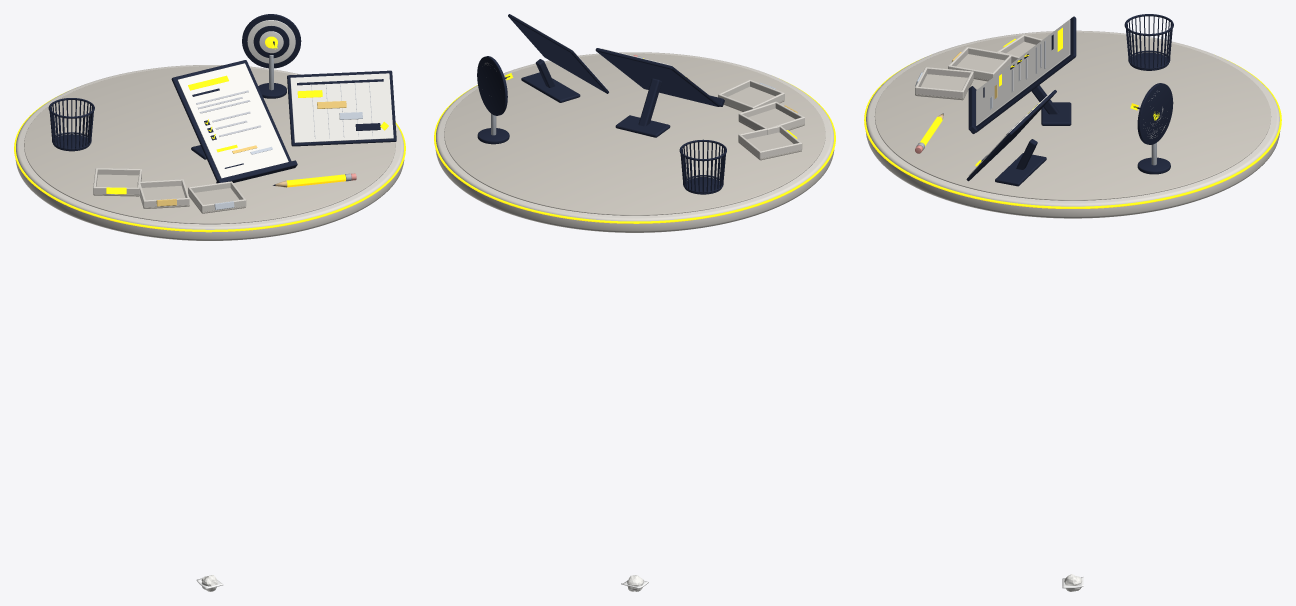
Rendered from spark-studio.glb.
3 views of the same model, side by side, from view 1: azimuth 30°, elevation 25°; view 2: azimuth 150°, elevation 25°; view 3: azimuth 270°, elevation 25° (orthographic). The views are drawn at different scales.
Parts seen in each view (by area): view 1: Plinth top, Plinth, Brief page, Plan sheet, Spark inlay, Brief, Brief board, Plan panel, Target ring 0, Target ring 1, Scope_Must_base, Scope_Should_base (+3 smaller); view 2: Plinth top, Plinth, Brief board, Plan panel, Spark inlay, Target ring 0, Plan foot, Brief foot, Scope_Must_base, Scope_Should_base, Scope_Later_base, Brief leg; view 3: Plinth top, Plinth, Brief page, Spark inlay, Target ring 0, Brief board, Plan foot, Scope_Later_base, Plan panel, Brief, Scope_Should_base, Brief foot.
Part boxes in pixels (x1,y1,x2,y2): Plinth top: [24, 66, 395, 224]; Plinth: [15, 65, 404, 240]; Brief page: [177, 63, 288, 178]; Plan sheet: [290, 73, 393, 142]; Spark inlay: [14, 92, 405, 232]; Brief: [188, 75, 272, 168]; Brief board: [171, 60, 291, 180]; Plan panel: [287, 70, 396, 146]; Target ring 0: [242, 14, 301, 68]; Target ring 1: [247, 20, 295, 63]; Scope_Must_base: [93, 174, 141, 196]; Scope_Should_base: [139, 186, 189, 208]; Plinth top: [444, 53, 825, 215]; Plinth: [435, 52, 834, 232]; Brief board: [595, 48, 719, 106]; Plan panel: [508, 14, 608, 93]; Spark inlay: [434, 78, 835, 223]; Target ring 0: [477, 56, 507, 115]; Plan foot: [521, 72, 580, 102]; Brief foot: [615, 115, 670, 137]; Scope_Must_base: [738, 132, 801, 160]; Scope_Should_base: [738, 108, 804, 130]; Scope_Later_base: [723, 86, 784, 111]; Brief leg: [638, 78, 661, 126]; Plinth top: [874, 32, 1271, 200]; Plinth: [865, 30, 1280, 218]; Brief page: [976, 19, 1070, 125]; Spark inlay: [864, 59, 1281, 208]; Target ring 0: [1137, 83, 1173, 144]; Brief board: [976, 16, 1076, 132]; Plan foot: [995, 153, 1046, 186]; Scope_Later_base: [915, 74, 973, 100]; Plan panel: [966, 90, 1056, 181]; Brief: [983, 27, 1062, 109]; Scope_Should_base: [956, 54, 1011, 81]; Brief foot: [1041, 102, 1071, 125].
Bounding box in the file's own units: 25.19 × 37.15 × 25.19.
